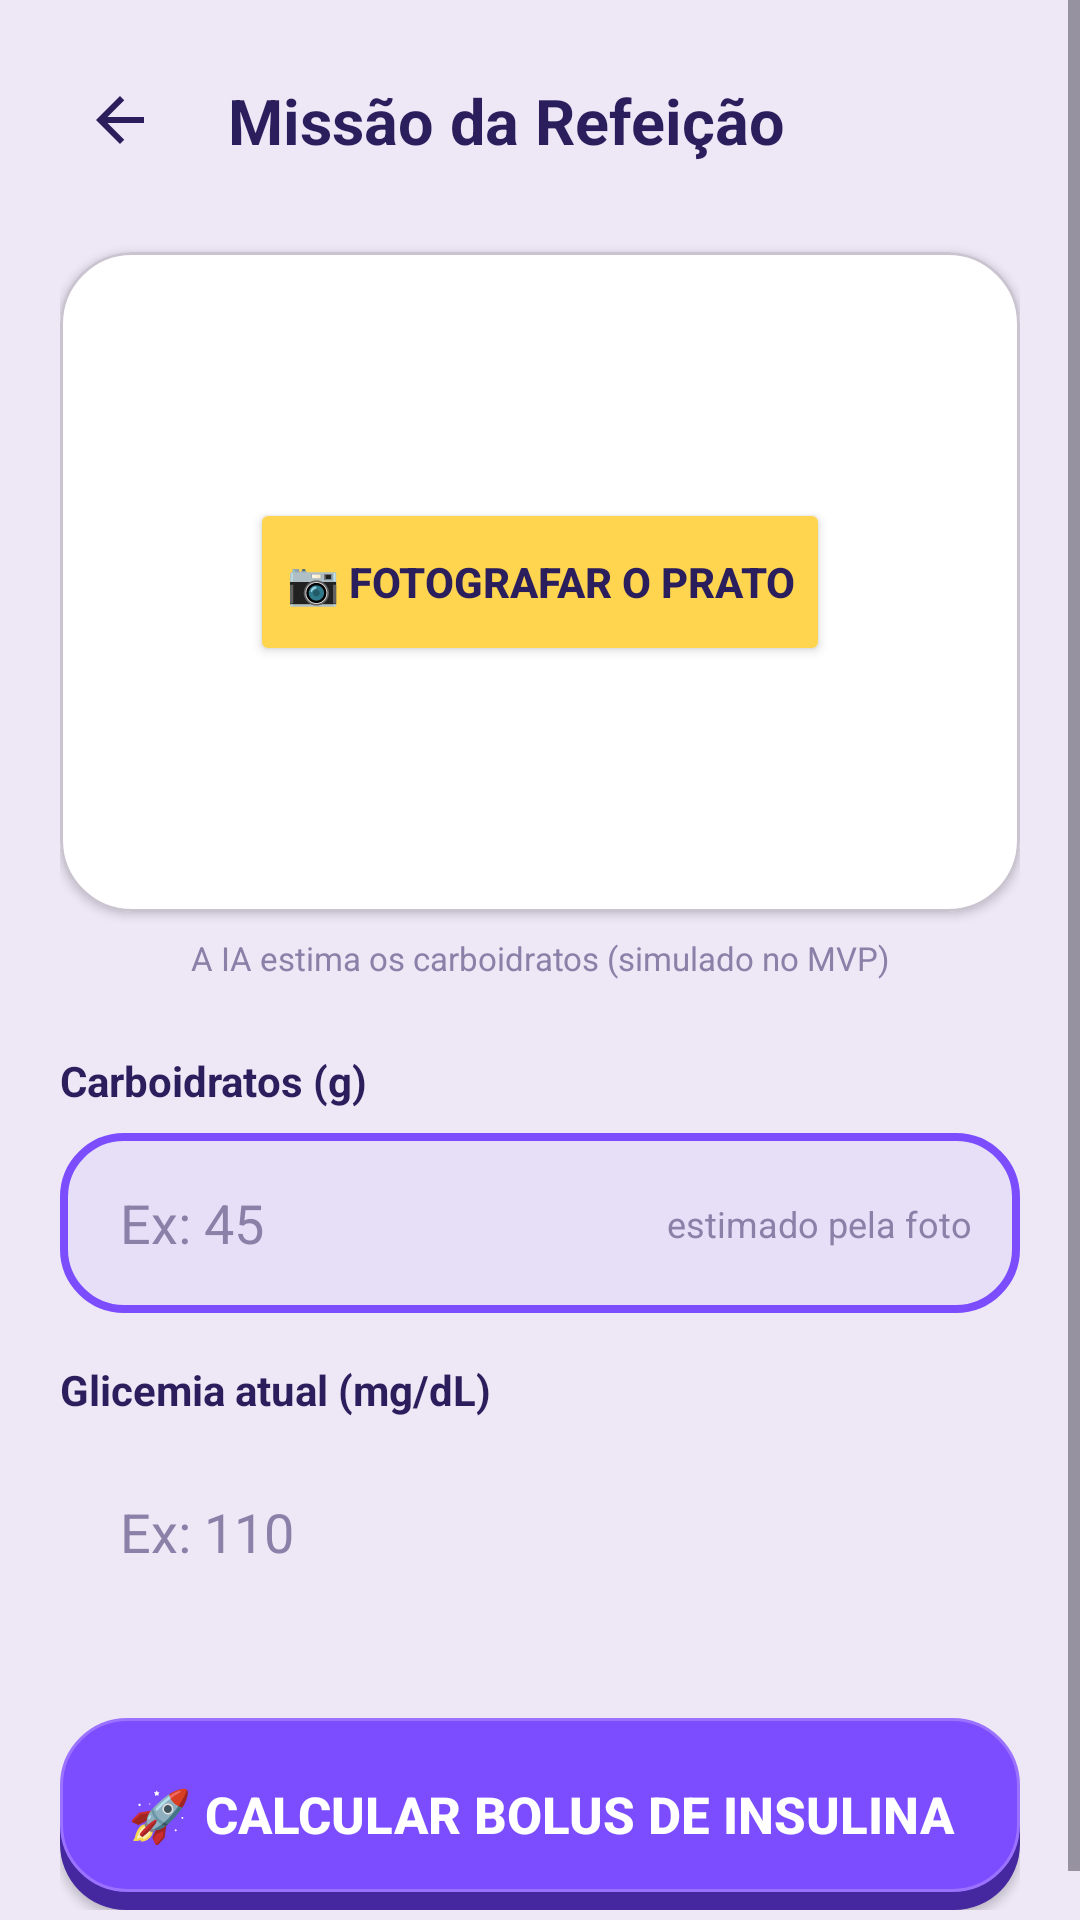

Icon bounding boxes for this 1080 × 1920 phone screenshot, format (x1, y1, x2, y2):
Voltar: (96, 96, 144, 144)
